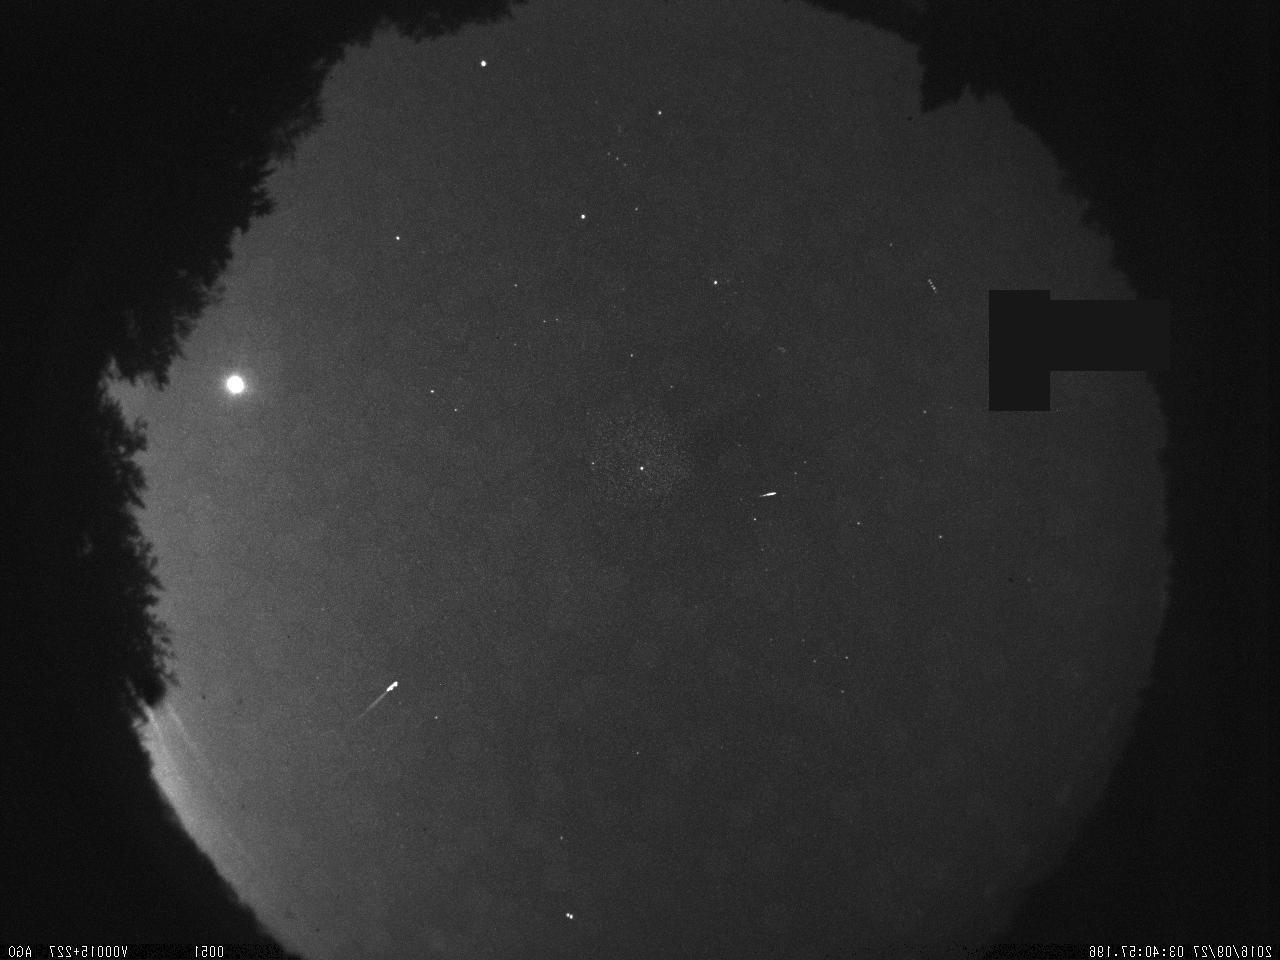meteor: (756, 488, 781, 502)
